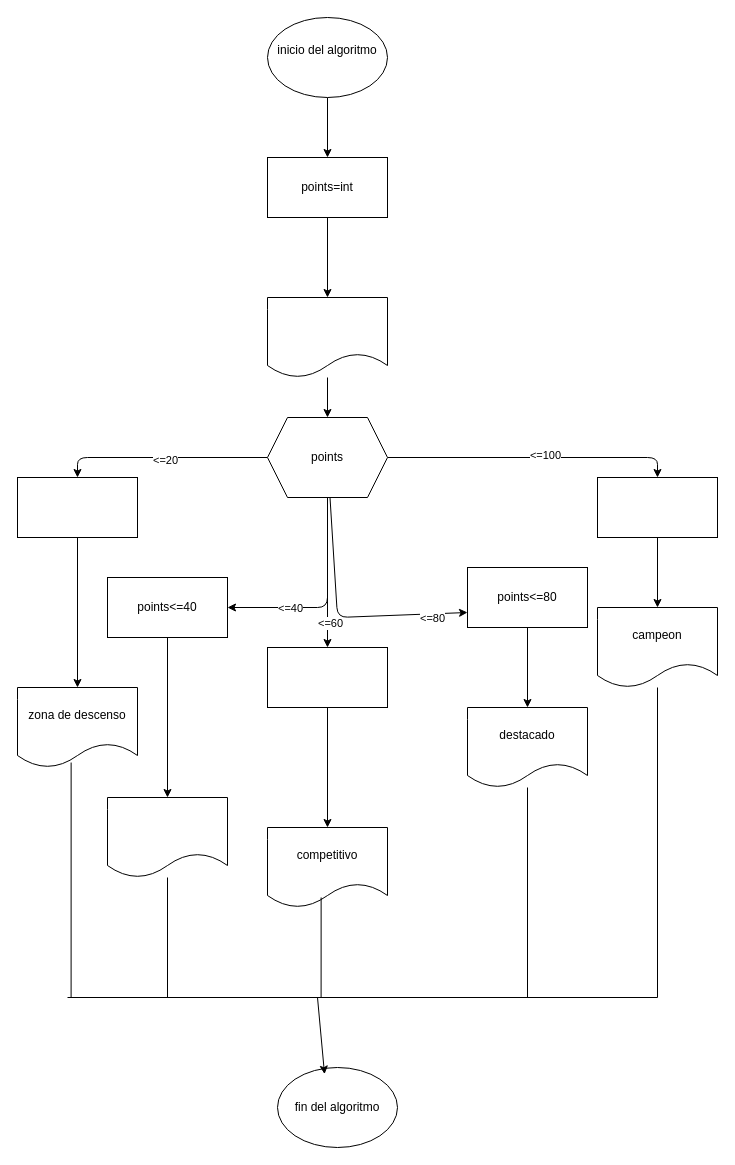
Some shapes in this 735 by 1165 pixel diagram are drawn without their labels. The shapes that lost their labels are listed below. From the top down, each one's centre as x and y in pixels, then its label:
At pixel 327 337: "por favor digite la cantidad de puntos de su equipo".
At pixel 77 507: "ponts<=20".
At pixel 657 507: "points<=100".
At pixel 327 677: "points<=60".
At pixel 167 837: "nivel intermedio".
